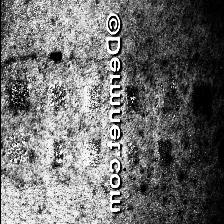Toxin: (46, 85, 78, 128), (184, 84, 206, 118)
